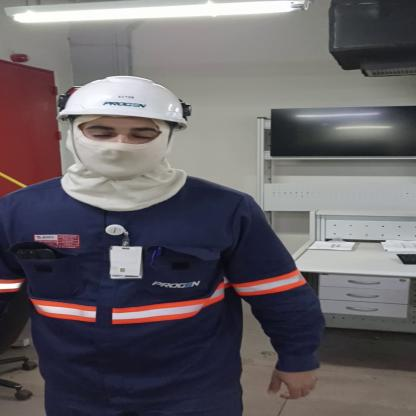Balaclava: (45, 120, 191, 214)
Capacete: (49, 74, 202, 130)
